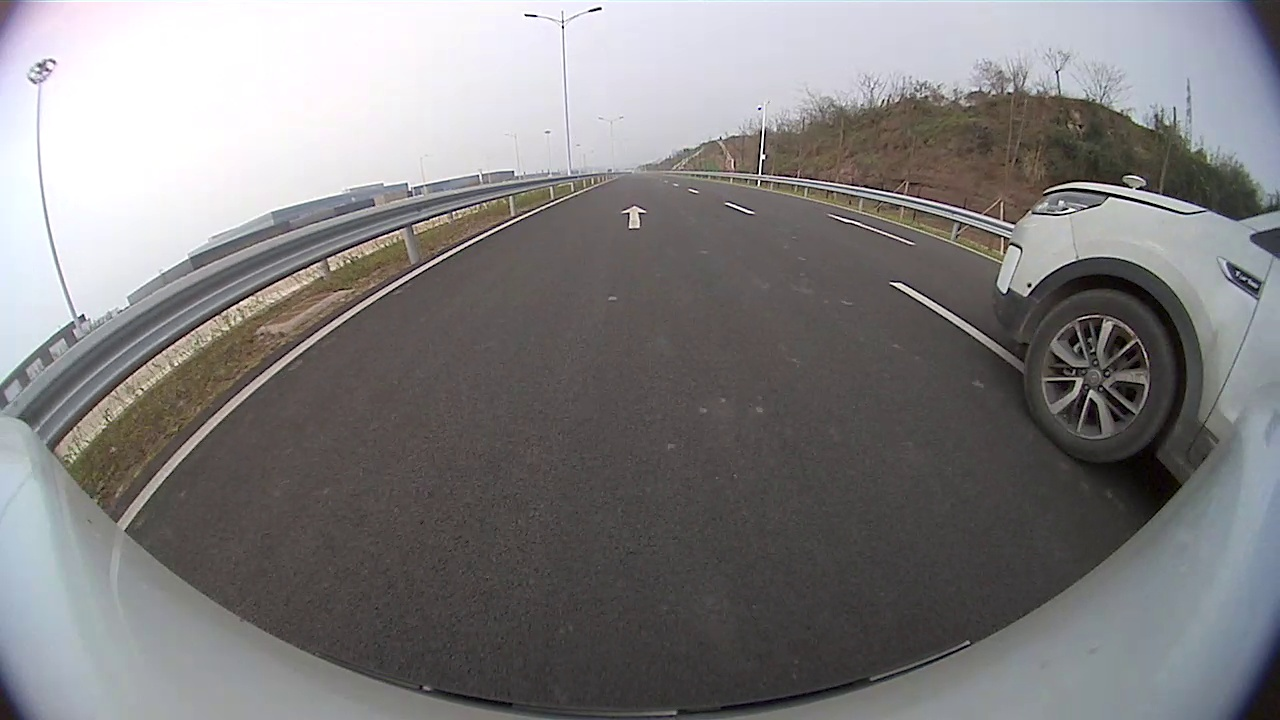car: (989, 180, 1278, 499)
front: (1023, 288, 1177, 466)
